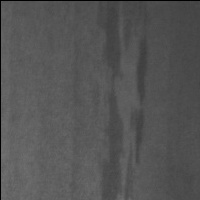inclusion: (95, 2, 149, 200), (61, 32, 84, 107)
